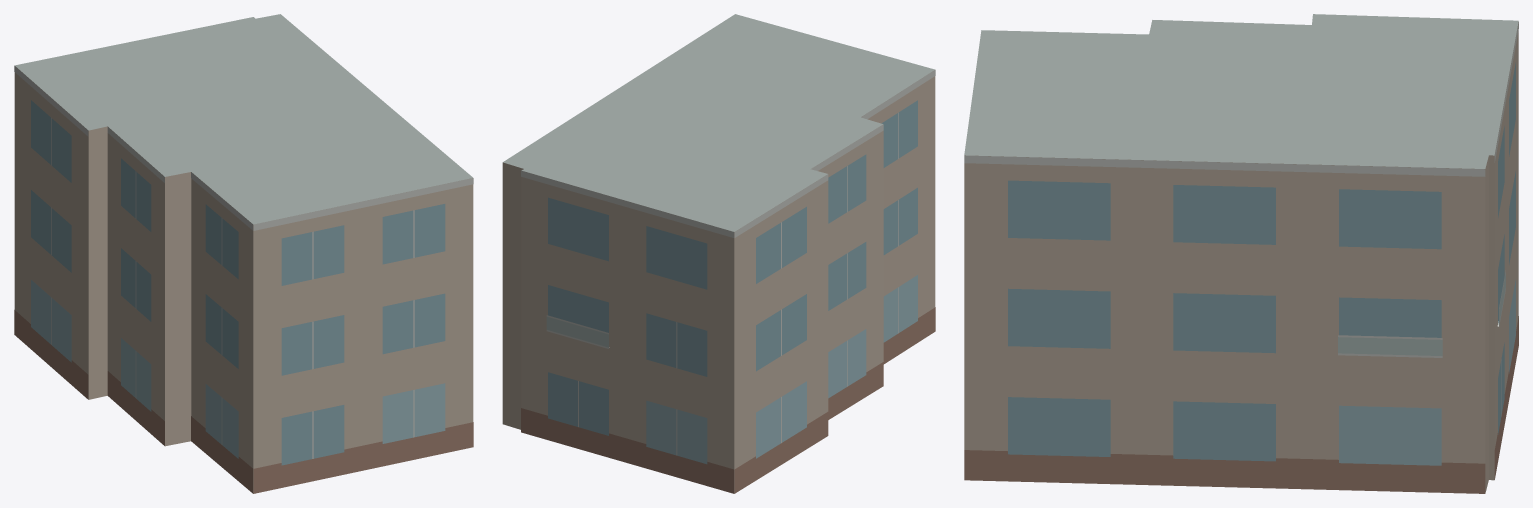
Rendered from survey-upis-32575763.glb.
3 renders of one model, left to right at view 1: azimuth 30°, elevation 25°; view 2: azimuth 150°, elevation 25°; view 3: azimuth 270°, elevation 25°, orthographic. The views are drawn at different scales.
Visible parts, largest first — view 1: survey-upis-32575763.tmp; view 2: survey-upis-32575763.tmp; view 3: survey-upis-32575763.tmp.
Boxes of the visible parts, x1=… form: survey-upis-32575763.tmp: x1=14, y1=14, x2=473, y2=493; survey-upis-32575763.tmp: x1=502, y1=14, x2=935, y2=493; survey-upis-32575763.tmp: x1=964, y1=14, x2=1518, y2=493.
Bounding box in the file's own units: 10.45 × 10.2 × 15.8.
